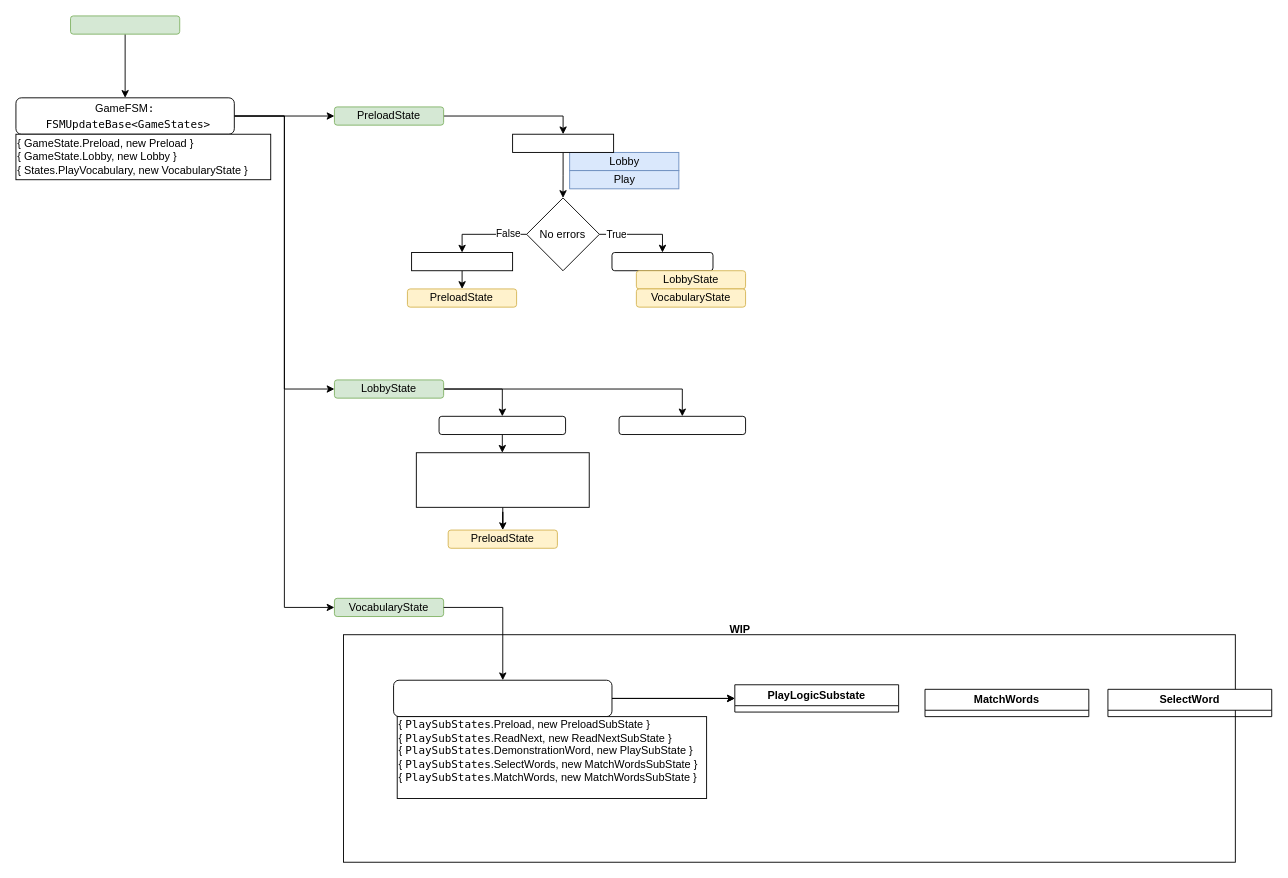
Image size: 1288x878. Some labels were removed from this diagram. Each missing label, with the centre of its shape:
"BookTab" goes at point (502, 425).
"Game" goes at point (125, 24).
"next state" goes at point (662, 261).
"on lesson click gameBus.NextState = Vocabulary gameBus.NextLesson = click index" goes at point (502, 479).
"OtherTabs... WIP" goes at point (682, 425).
"PlaySubFSM : StateMachineBase<LobbyStates>" goes at point (502, 698).
"preload data for" goes at point (563, 142).
"show error" goes at point (462, 261).
